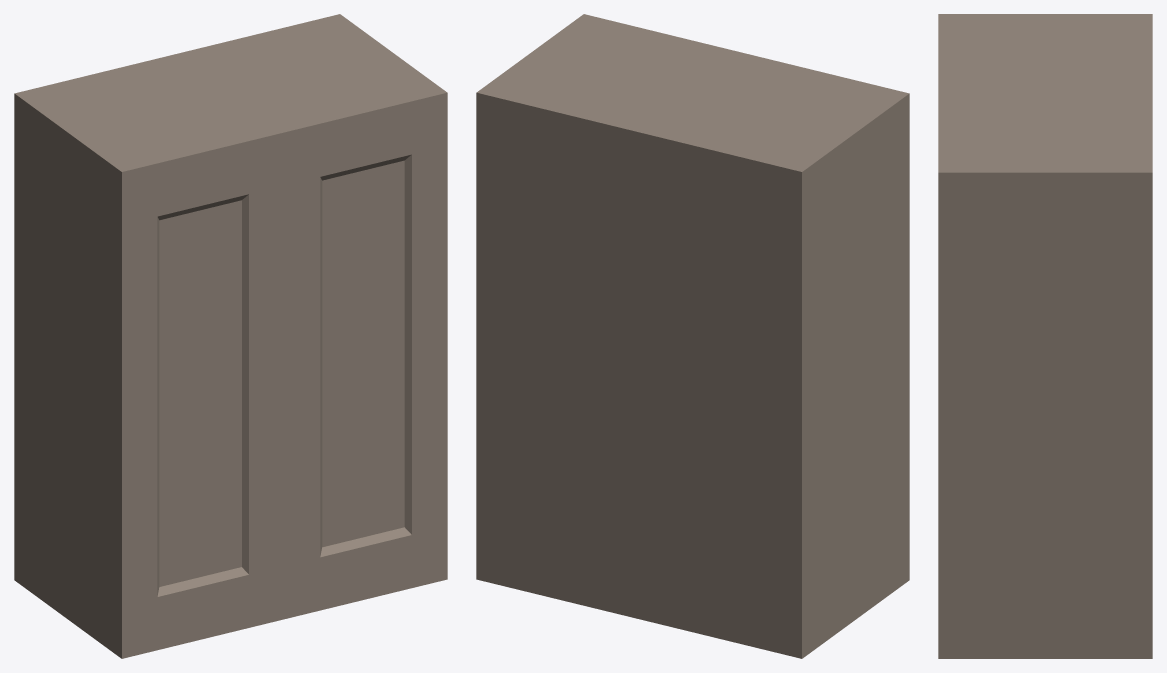
The model's file is WHP-Wall-Cabinet-Double-Door-Shelves_std_001_W21in.glb.
3 renders of one model, left to right at view 1: azimuth 30°, elevation 25°; view 2: azimuth 150°, elevation 25°; view 3: azimuth 270°, elevation 25°, orthographic.
Parts seen in each view (by area): view 1: WHP-Wall-Cabinet-Double-Door-Shelves.std.001_W21in; view 2: WHP-Wall-Cabinet-Double-Door-Shelves.std.001_W21in; view 3: WHP-Wall-Cabinet-Double-Door-Shelves.std.001_W21in.
Part boxes in pixels (<box>): WHP-Wall-Cabinet-Double-Door-Shelves.std.001_W21in: <box>14,14,447,658</box>; WHP-Wall-Cabinet-Double-Door-Shelves.std.001_W21in: <box>476,14,909,658</box>; WHP-Wall-Cabinet-Double-Door-Shelves.std.001_W21in: <box>938,14,1152,658</box>.
Bounding box in the file's own units: 0.5334 × 0.762 × 0.3048.
